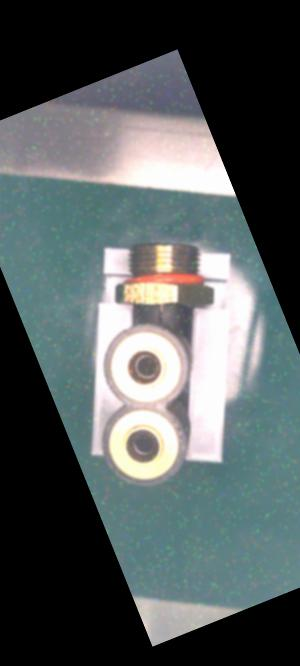craze: (150, 302, 168, 325)
